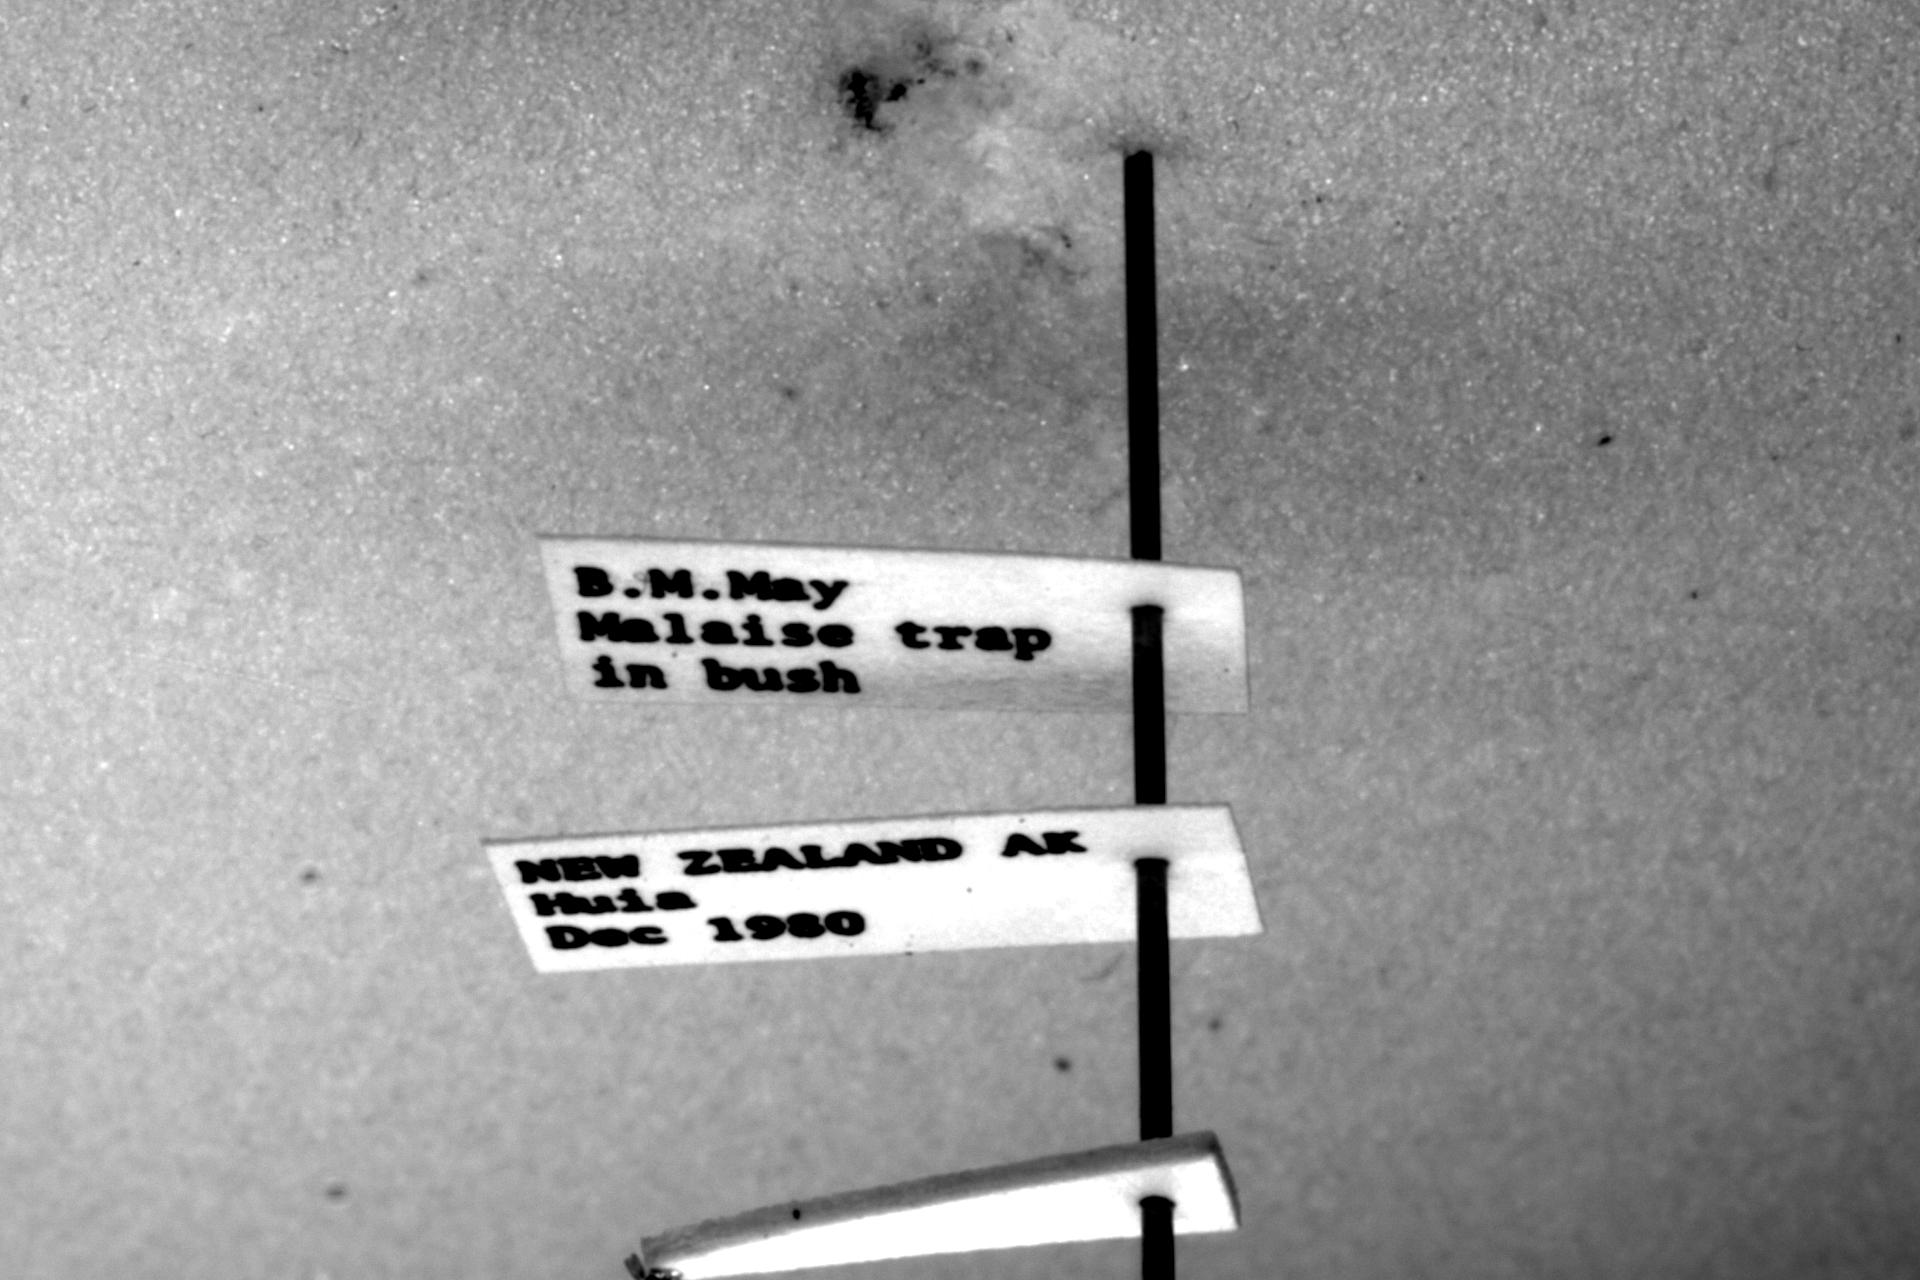typed_label: (484, 806, 1264, 971), (540, 536, 1249, 712)
